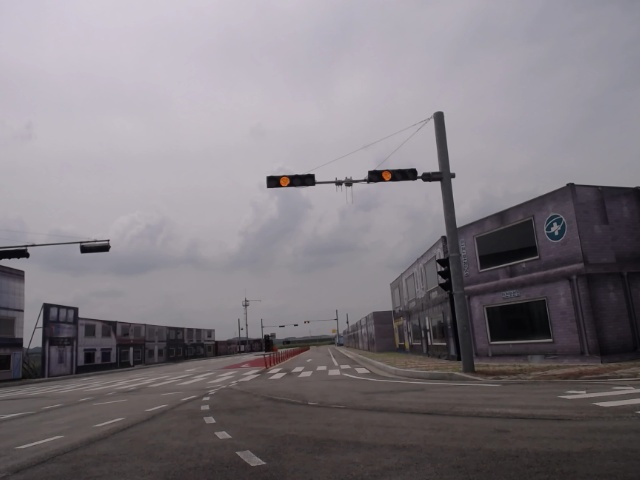orange_4: (366, 167, 419, 184), (262, 173, 316, 189)
